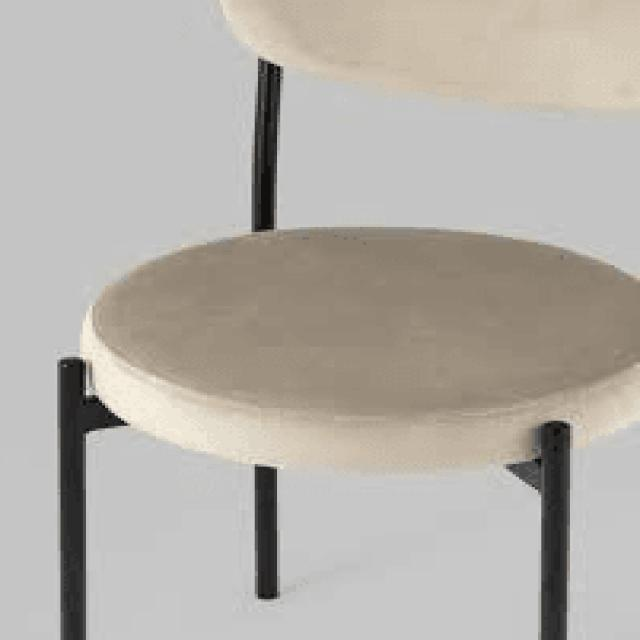chair: (51, 0, 640, 640), (67, 0, 640, 474)
